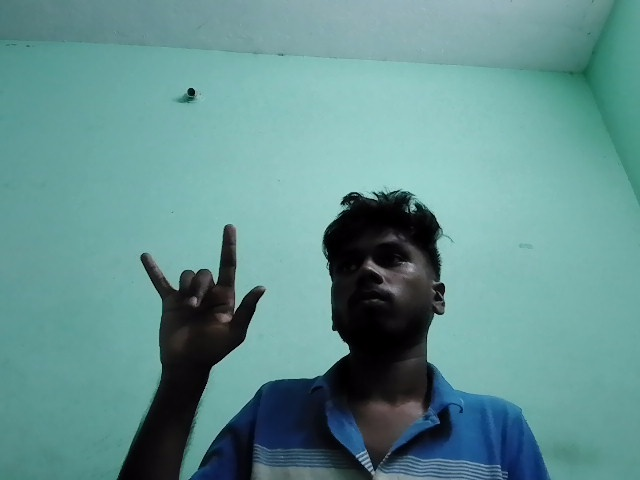I Love You: (123, 214, 299, 386)
